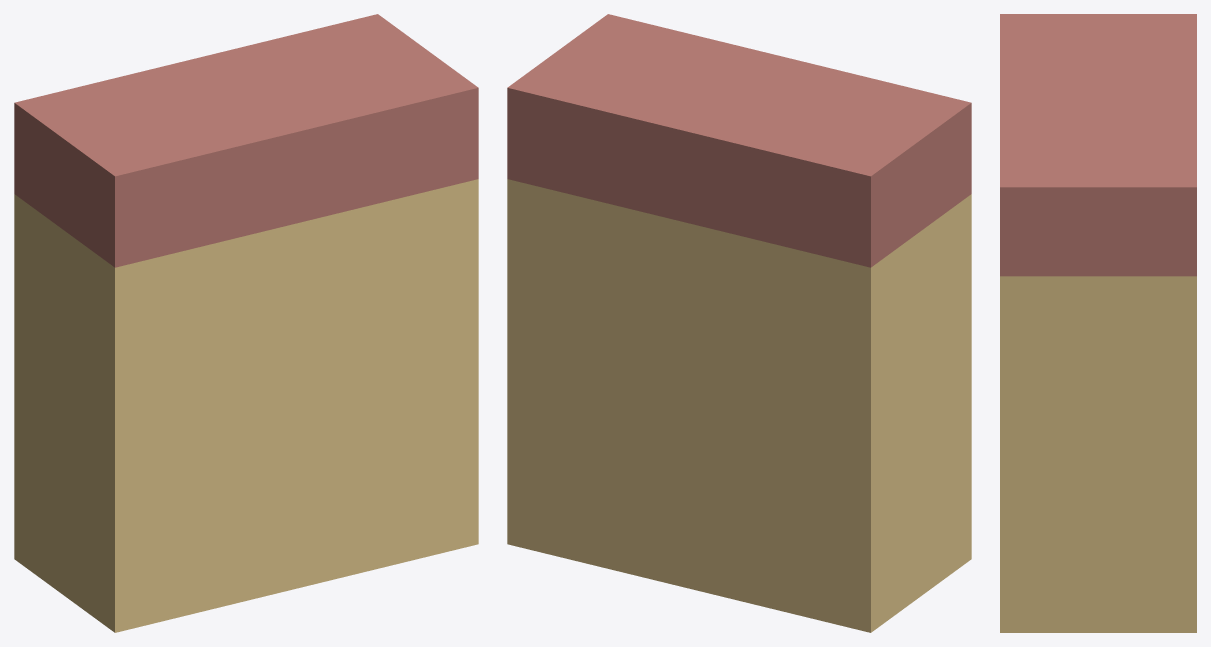
Rendered from cartucho.fbx.
3 renders of one model, left to right at view 1: azimuth 30°, elevation 25°; view 2: azimuth 150°, elevation 25°; view 3: azimuth 270°, elevation 25°, orthographic. The views are drawn at different scales.
Visible parts, largest first — view 1: cartucho; view 2: cartucho; view 3: cartucho.
Boxes of the visible parts, x1,y1,x2,y2 form: cartucho: (14,14,478,632); cartucho: (507,14,971,632); cartucho: (1000,14,1196,632).
Bounding box in the file's own units: 25 × 30 × 12.
